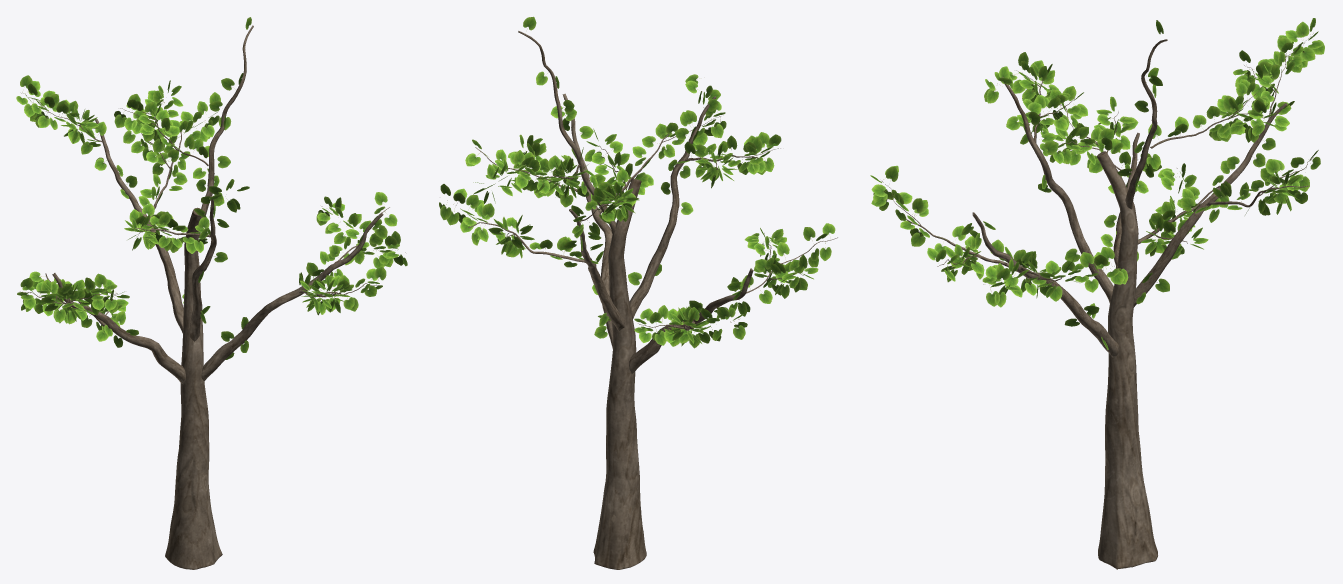
The model's file is tree_v1_001.glb.
3 views of the same model, side by side, from view 1: azimuth 30°, elevation 25°; view 2: azimuth 150°, elevation 25°; view 3: azimuth 270°, elevation 25° (orthographic). The views are drawn at different scales.
Bounding box in the file's own units: 9.49 × 13.15 × 9.55.
Materials: 1 (1 with a texture image).
